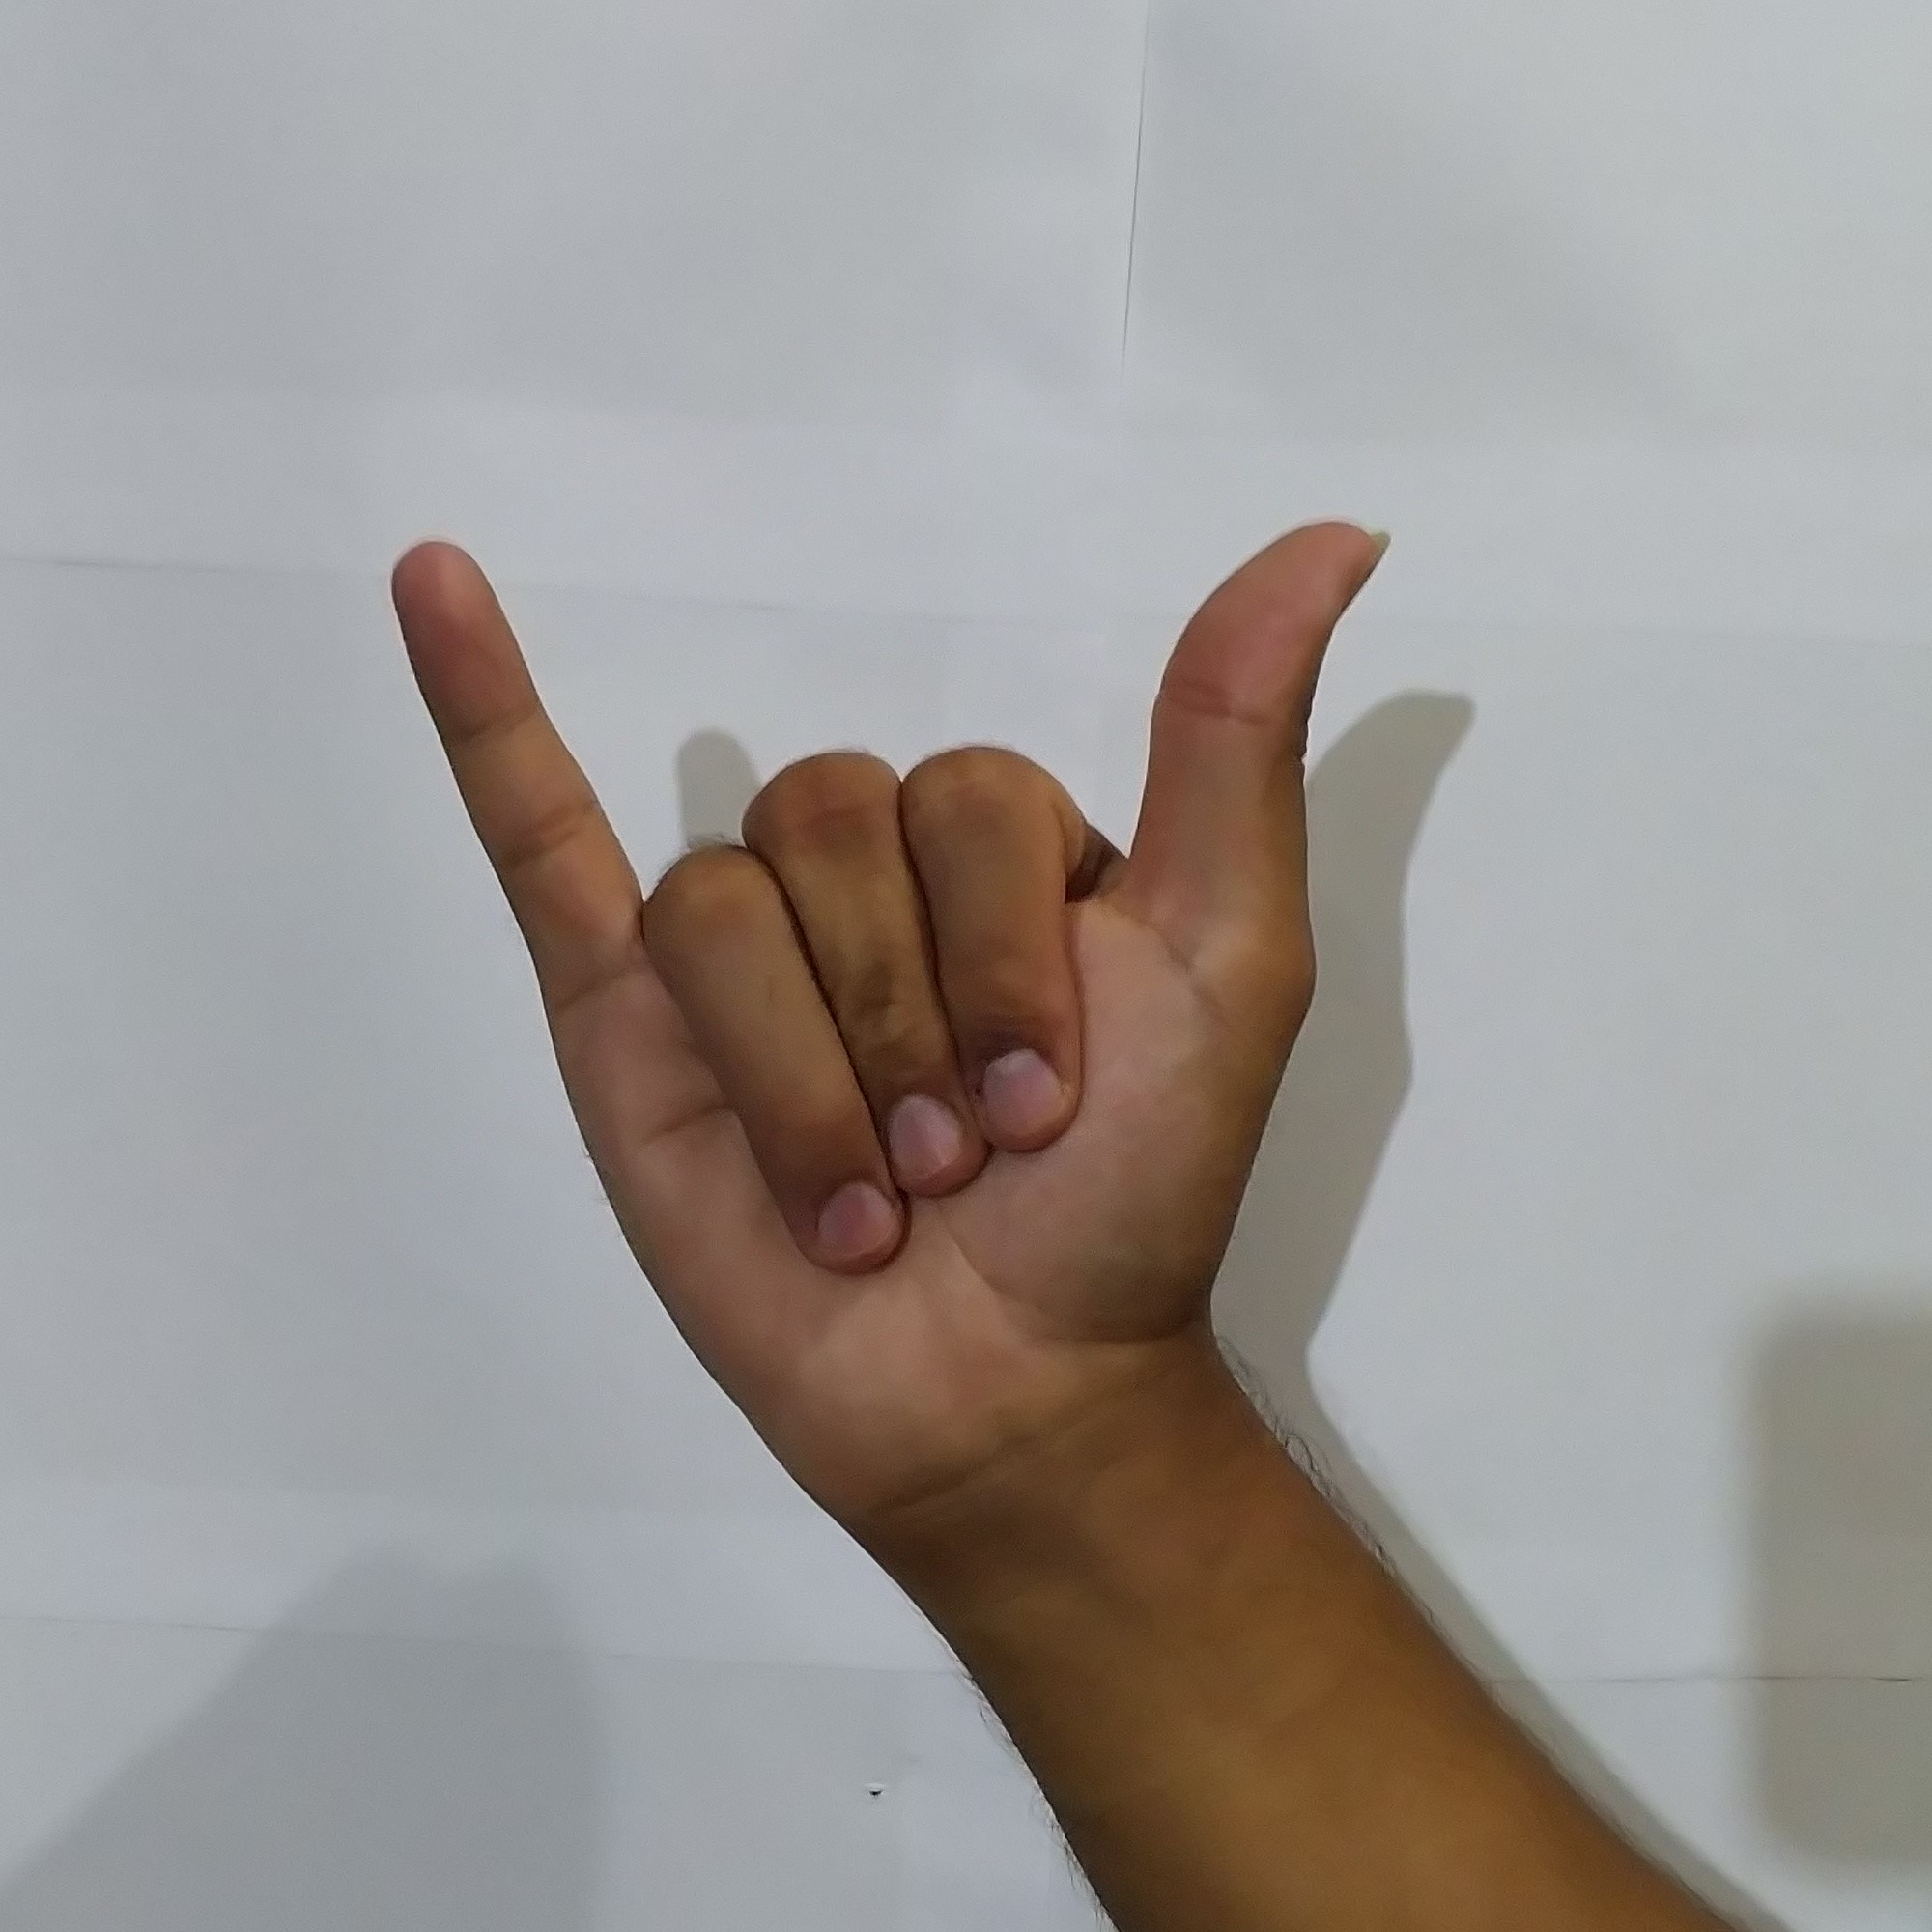Y: (359, 487, 1424, 1486)
